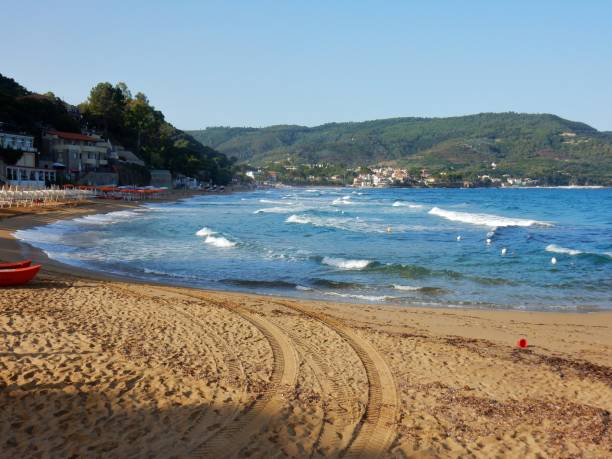vehicle_track: (155, 286, 298, 457), (273, 301, 398, 457), (111, 284, 246, 401), (284, 327, 361, 457)
